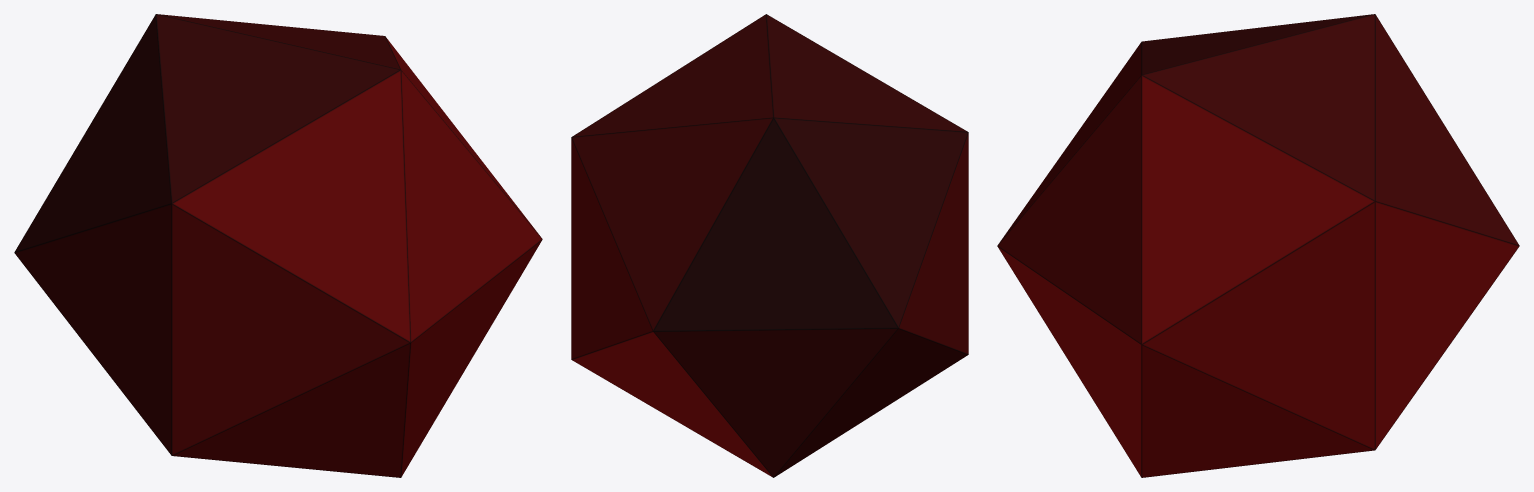
Rendered from animatedD20.glb.
The picture shows the model from 3 angles, left to right: view 1: azimuth 30°, elevation 25°; view 2: azimuth 150°, elevation 25°; view 3: azimuth 270°, elevation 25°; orthographic projection. The views are drawn at different scales.
Visible parts, largest first — view 1: pPlatonic1; view 2: pPlatonic1; view 3: pPlatonic1.
Part boxes in pixels (x1,y1,x2,y2): pPlatonic1: (14,14,542,477); pPlatonic1: (571,14,968,477); pPlatonic1: (997,14,1519,477).
Bounding box in the file's own units: 1.79 × 1.7 × 2.
